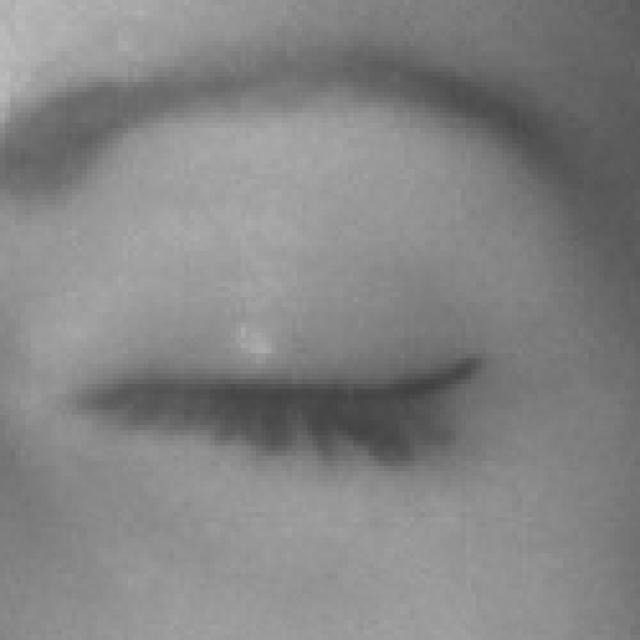close: (0, 45, 640, 562)
